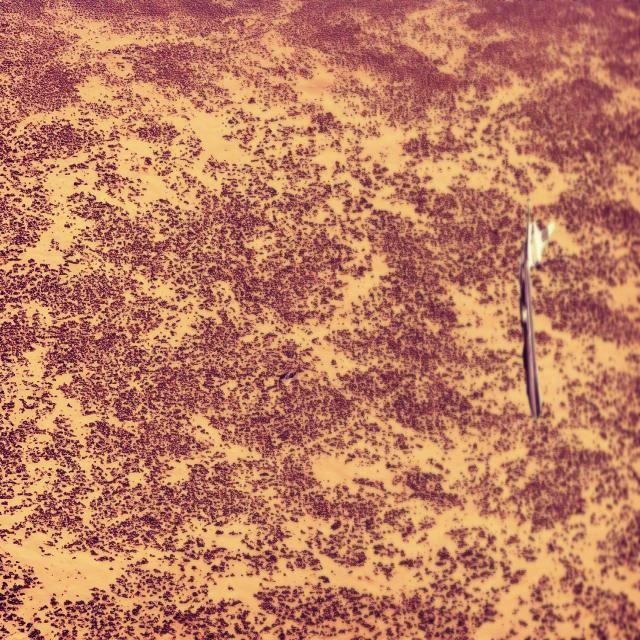airplane: (518, 198, 555, 418)
